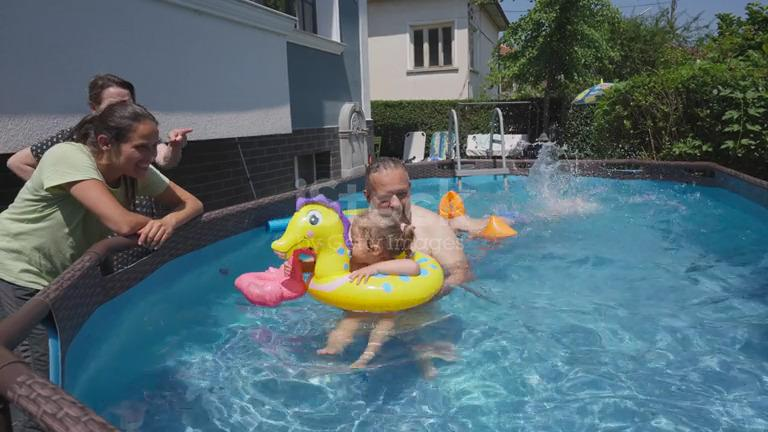Swimming: (222, 136, 544, 351)
